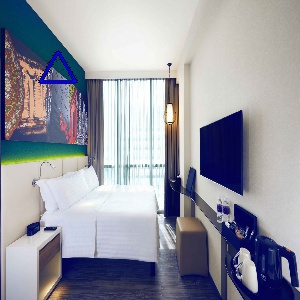triangle: (35, 47, 82, 88)
